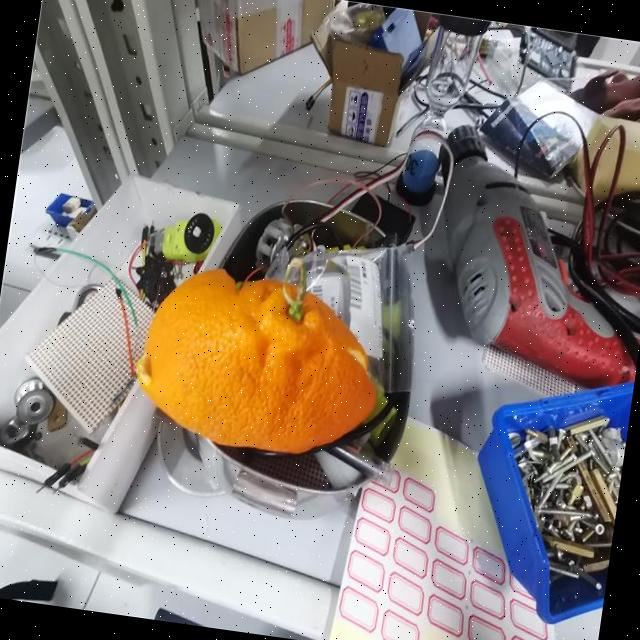orange-peel: (125, 257, 392, 467)
